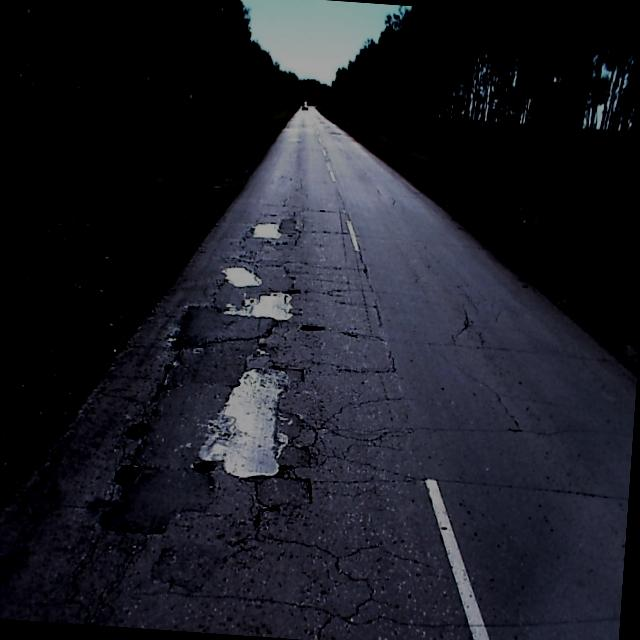road: (0, 109, 636, 640)
